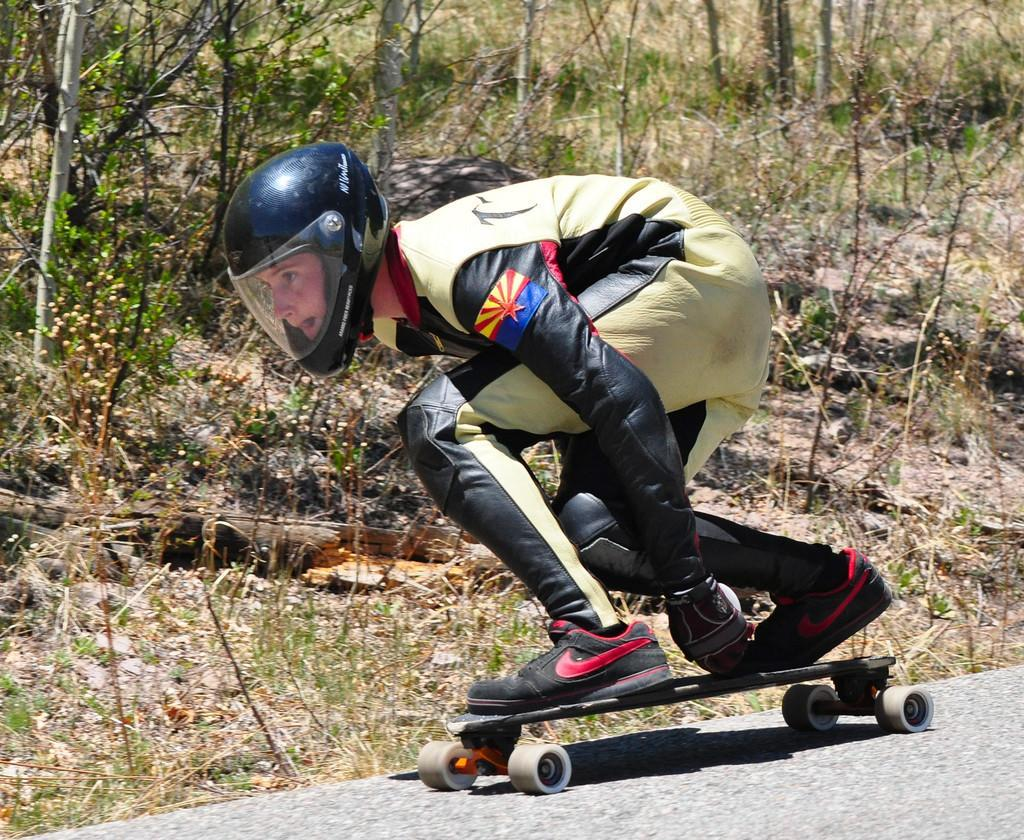helmet: (220, 140, 392, 380)
